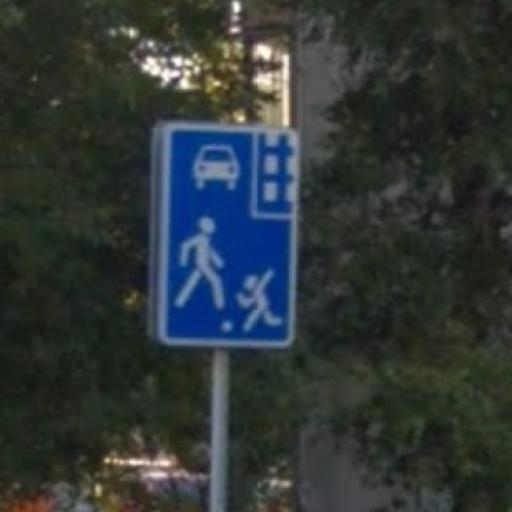traffic_sign: (157, 123, 303, 352)
